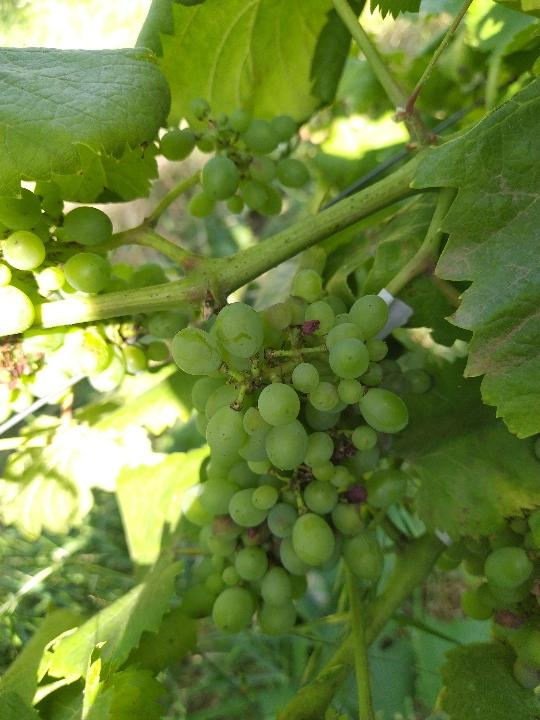grape: (138, 265, 436, 668), (156, 97, 309, 224)
